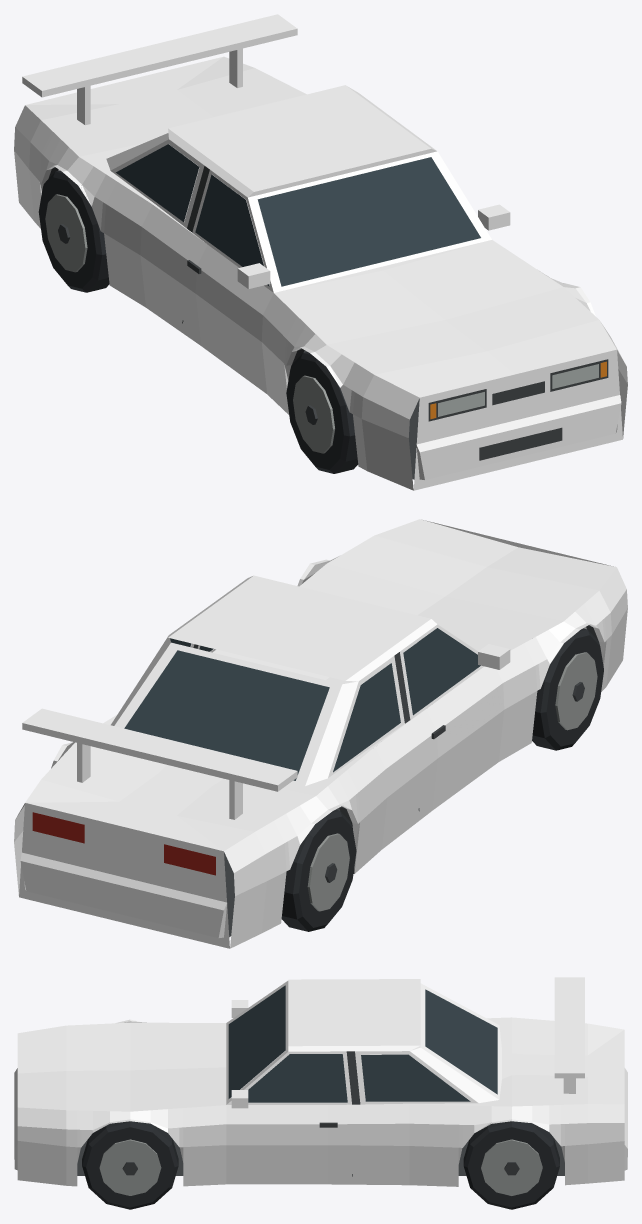
Rendered from hayase_nishiki_corrida.glb.
3 views of the same model, one above another, from view 1: azimuth 30°, elevation 25°; view 2: azimuth 150°, elevation 25°; view 3: azimuth 270°, elevation 25° (orthographic). The views are drawn at different scales.
Parts seen in each view (by area): view 1: hayase_nishiki_corrida; view 2: hayase_nishiki_corrida; view 3: hayase_nishiki_corrida.
Part boxes in pixels (x1=…): hayase_nishiki_corrida: x1=14, y1=14, x2=627, y2=490; hayase_nishiki_corrida: x1=14, y1=519, x2=627, y2=948; hayase_nishiki_corrida: x1=14, y1=977, x2=627, y2=1209.
Size of the model in its own units: 1.74 by 1.2 by 4.44.
Materials: 8 (1 with a texture image).
